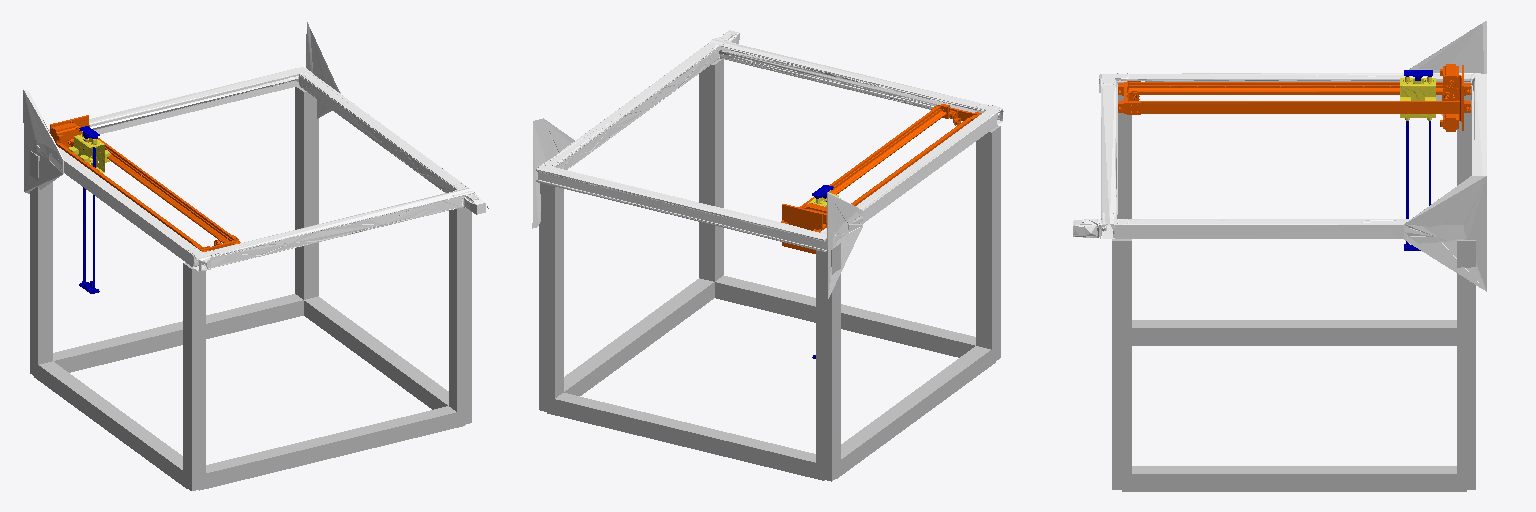
The robot description file, URDF, robot "CartMan":
<?xml version="1.0"?>
<robot name="CartMan">

    <!--This model has been redesigned based in work of team TU Delft
        Winners in Amazon Robotics Challenge
        https://github.com/warehouse-picking-automation-challenges/team_acrv_2017.git
        http://juxi.net/projects/AmazonRoboticsChallenge/
    -->


  <link name="link_supportz">
    <visual>
        <origin xyz="0.625 0.625 0.470" rpy="0 0 0" />
        <geometry>
          <box size="0.07 0.07 1" />
        </geometry>
	<material name="metal">
	    <color rgba="0.827450980392 0.827450980392 0.827450980392 1.0"/>
	 </material>
    </visual>
    
    <visual>
        <origin xyz="-0.625 0.625 0.470" rpy="0 0 0" />
        <geometry>
          <box size="0.07 0.07 1" />
        </geometry>
        <material name="metal">
	    <color rgba="0.827450980392 0.827450980392 0.827450980392 1.0"/>
        </material>
    </visual>
        
    <visual>
        <origin xyz="0.625 -0.625 0.470" rpy="0 0 0" />
        <geometry>
          <box size="0.07 0.07 1" />
        </geometry>
        <material name="metal">
	    <color rgba="0.827450980392 0.827450980392 0.827450980392 1.0"/>
        </material>
    </visual>
        
    <visual>
        <origin xyz="-0.625 -0.625 0.470" rpy="0 0 0" />
        <geometry>
          <box size="0.07 0.07 1" />
        </geometry>
        <material name="metal">
	    <color rgba="0.827450980392 0.827450980392 0.827450980392 1.0"/>
        </material>
    </visual>
        
   <visual>
        <origin xyz="0 0.625 0" rpy="0 0 0" />
        <geometry>
          <box size="1.25 0.07 0.07" />
        </geometry>
        <material name="metal">
	    <color rgba="0.827450980392 0.827450980392 0.827450980392 1.0"/>
        </material>
    </visual>
    
    <visual>
        <origin xyz="0 -0.625 0" rpy="0 0 0" />
        <geometry>
          <box size="1.25 0.07 0.07" />
        </geometry>
        <material name="metal">
	    <color rgba="0.827450980392 0.827450980392 0.827450980392 1.0"/>
        </material>
    </visual>
        
    <visual>
        <origin xyz="0.625 0 0" rpy="0 0 0" />
        <geometry>
          <box size="0.07 1.25 0.07" />
        </geometry>
        <material name="metal">
	    <color rgba="0.827450980392 0.827450980392 0.827450980392 1.0"/>
        </material>
    </visual>
        
   <visual>
        <origin xyz="-0.625 0 0" rpy="0 0 0" />
        <geometry>
          <box size="0.07 1.25 0.07" />
        </geometry>
        <material name="metal">
	    <color rgba="0.827450980392 0.827450980392 0.827450980392 1.0"/>
        </material>
    </visual>
  </link> 

    <link name="base_link">
        <visual>
            <origin rpy="1.570796327 0 0"
                    xyz="0 0 1" />
            <geometry>
                <mesh filename="package://rvizglabre/modelos/cartesian_description/meshes/xAxis.STL" />
            </geometry>
  <material name="white">
    <color rgba="1.0 1.0 1.0 1.0"/>
  </material>
        </visual>

        <!-- Collision For Floor -->
        <collision>
            <origin rpy="0 0 0" xyz="0.0 0.0 -0.05"/>
            <geometry>
                <box size="1.5 1.5 0.01" />
            </geometry>
            <material name="darkred">
                <color rgba=".5 .3 .1 1"/>
            </material>
        </collision>
    </link>

    <joint name="base_support1" type="fixed">
        <parent link="base_link"/>
        <child link="link_supportz"/>
        <origin rpy="0 0 0" xyz="0 0 0"/>

    </joint> 



    <joint name="joint_1" type="prismatic">
        <parent link="base_link" />
        <child link="x_axis_link" />
        <limit effort="1000.0" lower="0"
               upper="0.98" velocity="1.0" />
        <origin rpy="1.570796327 0 0"
                xyz="-0.5 0 1" />
    </joint>

    <link name="x_axis_link">
        <visual>
            <geometry>
                <mesh filename="package://rvizglabre/modelos/cartesian_description/meshes/yAxis.STL" />
            </geometry>
            <material name="orange">
                <color rgba="1.0 0.423529411765 0.0392156862745 1.0"/>
            </material>
        </visual>

        <collision>
            <origin rpy="0 0 0" xyz="0.0 0.0 0.0"/>
            <geometry>
                <box size="0.1 0.08 1.1" />
            </geometry>
            <material name="darkred">
                <color rgba=".5 .1 .1 1"/>
            </material>
        </collision>

    </link>
 

    <joint name="joint_2" type="prismatic">
        <axis xyz="0 0 1"/>
        <parent link="x_axis_link"/>
        <child link="y_axis_link"/>
        <limit effort="1000.0" lower="0"
               upper="0.92" velocity="1.0" />
        <origin rpy="0 0 0"
                xyz="0 0 -0.45" />
    </joint>

    <link name="y_axis_link">
        <visual>
            <geometry>
                <mesh filename="package://rvizglabre/modelos/cartesian_description/meshes/yAxisCarriage.STL" />
            </geometry>
        </visual>

    </link>

    <joint name="joint_3" type="prismatic">
        <axis xyz="0 1 0"/>
        <parent link="y_axis_link"/>
        <child link="z_axis_link"/>
        <limit effort="1000.0" lower="0"
               upper="0.5" velocity="1.0" />
        <origin rpy="0 0 0"
                xyz="0 -0.6 0" />
    </joint>

    <link name="z_axis_link">
        <visual>
            <geometry>
                <mesh filename="package://rvizglabre/modelos/cartesian_description/meshes/zAxis.STL"/>
            </geometry>
            <origin rpy="0 0 3.14" xyz="0 0.01 0" />
	   <material name="blue">
	      <color rgba="0.0 0.0 0.8 1.0"/>
	   </material>
        </visual>

<!--         <visual>
            <geometry>
                <mesh filename="package://rvizglabre/modelos/cartesian_description/meshes/yaw.STL"/>
            </geometry>
            <origin rpy="0 0 0" xyz="0 0 0.012"/>
        </visual> -->

    </link>

    <joint name="joint3-tool0" type="fixed">
      <parent link="z_axis_link"/>
      <child link="tool0"/>
      <origin rpy="0 0 0" xyz="0 0 0"/>
    </joint>

      <link name="tool0"/>

</robot>

--- What the picture shows (computed from the rendered views, not written in the file) ---
Views: 3 orthographic renders of the robot side by side, from view 1: azimuth 30°, elevation 25°; view 2: azimuth 150°, elevation 25°; view 3: azimuth 270°, elevation 25°.
Model CartMan with 6 links and 5 joints (3 prismatic, 2 fixed), rooted at base_link, posed all joints at 0.
Visible links, largest first — view 1: link_supportz, base_link, x_axis_link, z_axis_link, y_axis_link; view 2: link_supportz, base_link, x_axis_link; view 3: link_supportz, base_link, x_axis_link, y_axis_link, z_axis_link.
Boxes of the visible links, x1,y1,x2,y2 form: link_supportz: (30,86,471,490); base_link: (23,22,488,271); x_axis_link: (50,115,240,251); z_axis_link: (79,126,99,293); y_axis_link: (68,131,110,172); link_supportz: (539,59,1000,481); base_link: (532,30,1003,298); x_axis_link: (781,104,981,253); link_supportz: (1112,95,1475,491); base_link: (1073,21,1486,291); x_axis_link: (1118,64,1470,131); y_axis_link: (1400,76,1435,120); z_axis_link: (1404,70,1432,250).
Bounding box of the posed robot: 1.33 × 1.5 × 1.27 m (x, y, z).
Meshes: 4 distinct files referenced, 4 mesh visuals loaded (4 binary STL).
